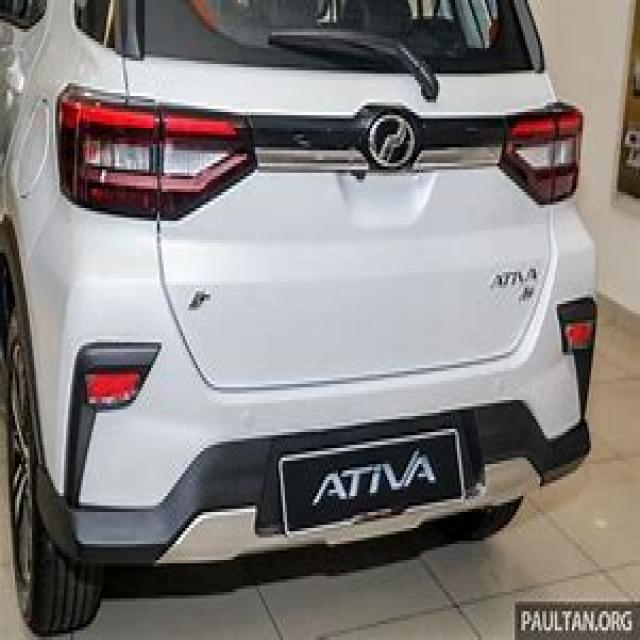PeroduaAtiva: (0, 0, 597, 637)
